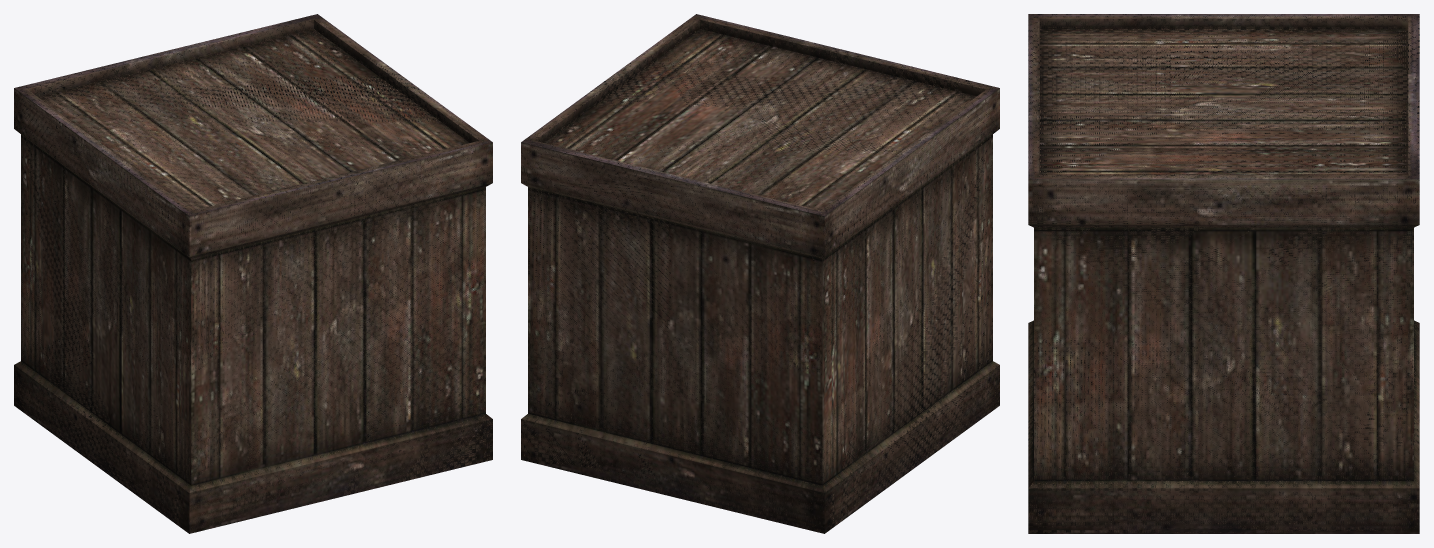
File: SquareBox01.fbx
3 views of the same model, side by side, from view 1: azimuth 30°, elevation 25°; view 2: azimuth 150°, elevation 25°; view 3: azimuth 270°, elevation 25° (orthographic). The views are drawn at different scales.
Parts seen in each view (by area): view 1: Model; view 2: Model; view 3: Model.
Part boxes in pixels (x1=…): Model: x1=14, y1=14, x2=492, y2=533; Model: x1=521, y1=14, x2=999, y2=533; Model: x1=1028, y1=14, x2=1419, y2=533.
Bounding box in the file's own units: 27.56 × 27.56 × 27.56.
